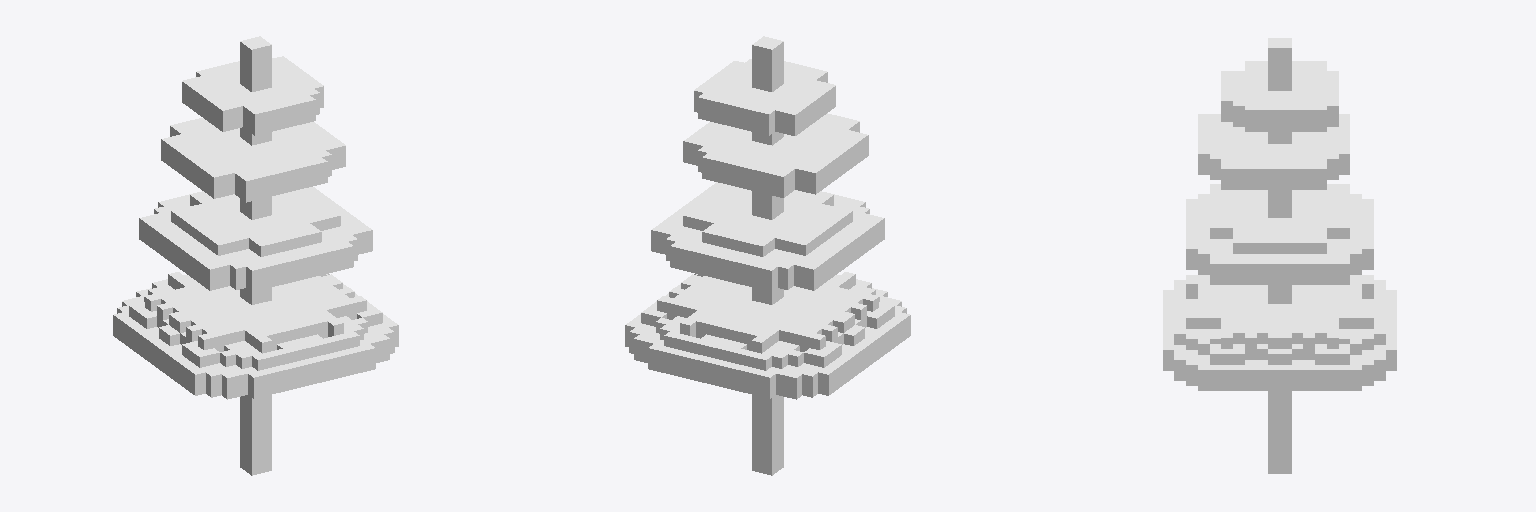
The model's file is Test_Tree.obj.
The picture shows the model from 3 angles: view 1: azimuth 30°, elevation 25°; view 2: azimuth 150°, elevation 25°; view 3: azimuth 270°, elevation 25°; orthographic projection.
Visible parts, largest first — view 1: Tree_Leaves, Tree_Trunk; view 2: Tree_Leaves, Tree_Trunk; view 3: Tree_Leaves, Tree_Trunk.
Part boxes in pixels (x1,y1,x2,y2): Tree_Leaves: (113, 56, 398, 399); Tree_Trunk: (240, 36, 271, 475); Tree_Leaves: (625, 59, 910, 399); Tree_Trunk: (752, 36, 783, 475); Tree_Leaves: (1163, 61, 1396, 390); Tree_Trunk: (1268, 38, 1291, 473).
Bounding box in the file's own units: 2 × 4 × 2.